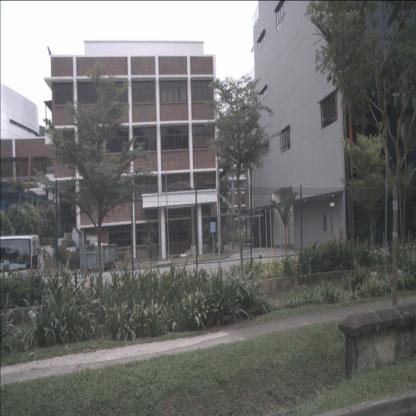vehicle-truck: (0, 234, 45, 305)
